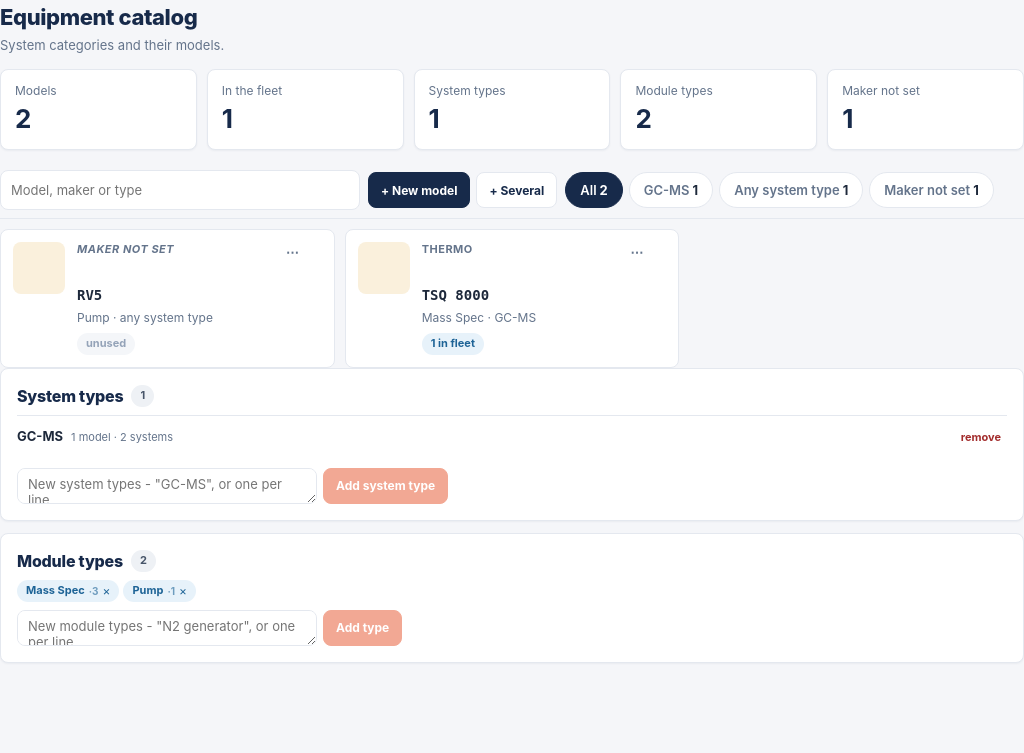
Test: the add buttons sit beside the search box › opens the several-at-once grid above the model cards, not below them
Expected: the text "Add several models" is not shown
What coordinates should you click on to do the following:
click the button "+ Several"
I would click on:
 (517, 190)
Its box is x1=476 y1=172 x2=557 y2=208.
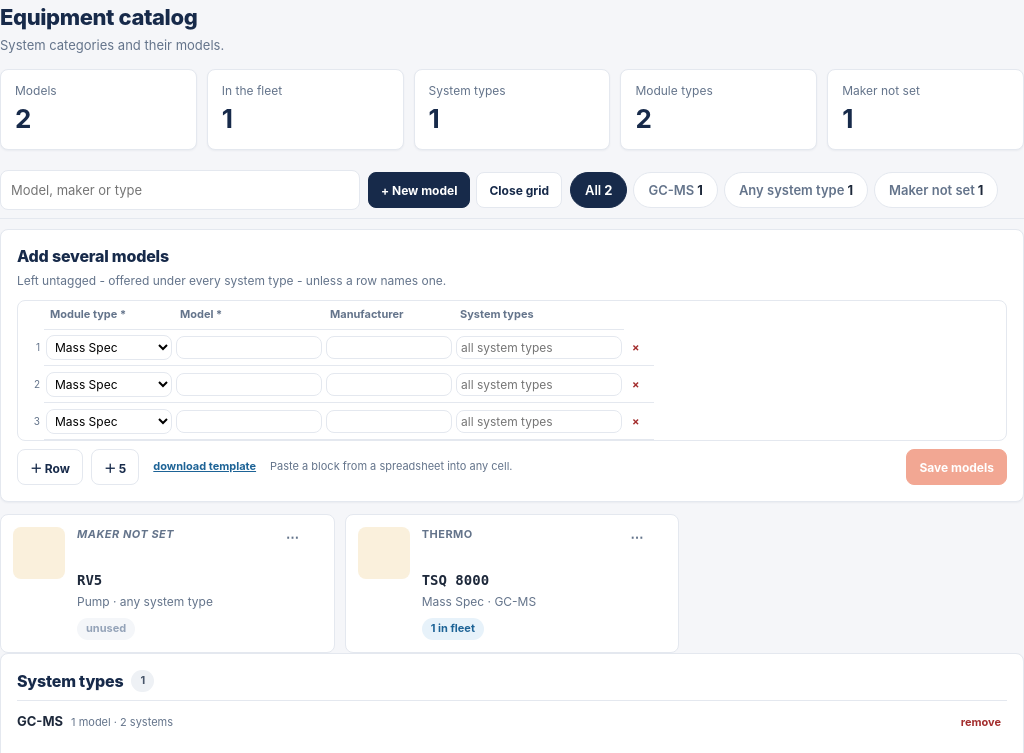
// ...and it closes again from the same button.
What coordinates should you click on to do the following:
click the button "Close grid"
I would click on:
 (519, 190)
Its box is x1=476 y1=172 x2=562 y2=208.
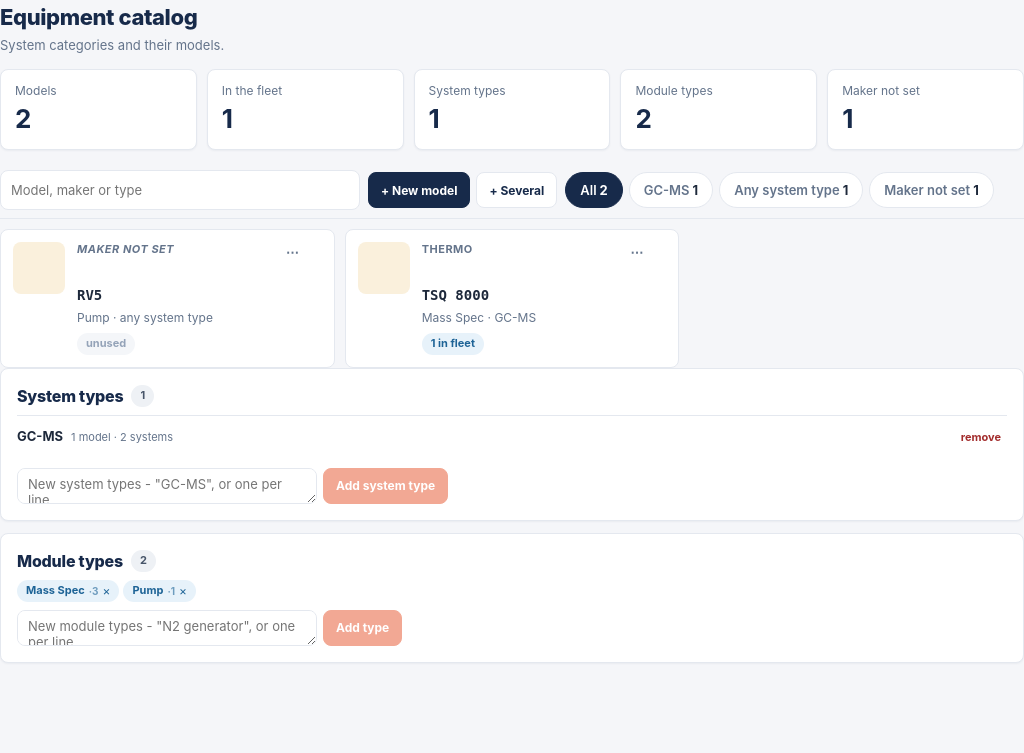
Now the text "Add several models" is gone
